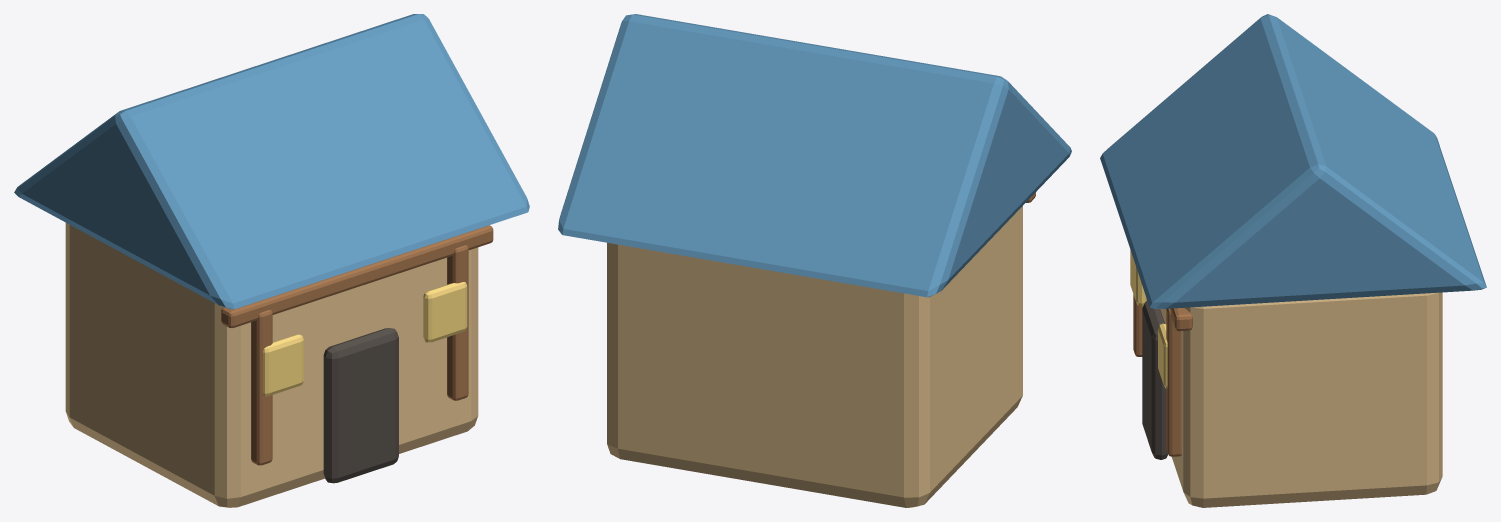
Rendered from building_cottage_d.glb.
The picture shows the model from 3 angles, left to right: view 1: azimuth 30°, elevation 25°; view 2: azimuth 150°, elevation 25°; view 3: azimuth 270°, elevation 25°; orthographic projection. The views are drawn at different scales.
Parts seen in each view (by area): view 1: Cottage_D_Roof.001, Cottage_D_House.001, Cottage_D_Door.001, Cottage_D_BeamTop.001, Cottage_D_BeamL.001, Cottage_D_WindowR.001, Cottage_D_BeamR.001, Cottage_D_WindowL.001; view 2: Cottage_D_Roof.001, Cottage_D_House.001; view 3: Cottage_D_Roof.001, Cottage_D_House.001, Cottage_D_Door.001, Cottage_D_BeamR.001, Cottage_D_WindowR.001, Cottage_D_BeamL.001, Cottage_D_WindowL.001, Cottage_D_BeamTop.001.
Boxes of the visible parts, x1,y1,x2,y2 form: Cottage_D_Roof.001: (14, 14, 529, 309); Cottage_D_House.001: (65, 223, 478, 507); Cottage_D_Door.001: (323, 328, 398, 483); Cottage_D_BeamTop.001: (221, 225, 493, 328); Cottage_D_BeamL.001: (251, 310, 272, 465); Cottage_D_WindowR.001: (423, 282, 467, 342); Cottage_D_BeamR.001: (447, 245, 468, 400); Cottage_D_WindowL.001: (263, 334, 303, 396); Cottage_D_Roof.001: (558, 14, 1071, 297); Cottage_D_House.001: (607, 206, 1022, 507); Cottage_D_Roof.001: (1100, 14, 1486, 308); Cottage_D_House.001: (1160, 292, 1442, 507); Cottage_D_Door.001: (1142, 301, 1168, 459); Cottage_D_BeamR.001: (1166, 308, 1181, 456); Cottage_D_WindowR.001: (1158, 323, 1167, 388); Cottage_D_BeamL.001: (1133, 294, 1147, 356); Cottage_D_WindowL.001: (1130, 250, 1146, 306); Cottage_D_BeamTop.001: (1170, 308, 1192, 331).
Size of the model in its own units: 2.07 by 1.94 by 1.93.
